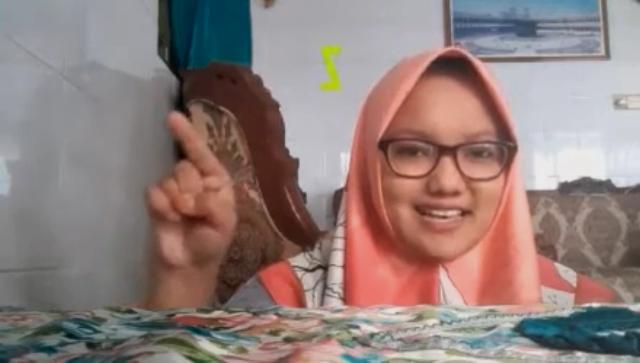Z: (143, 111, 239, 268)
